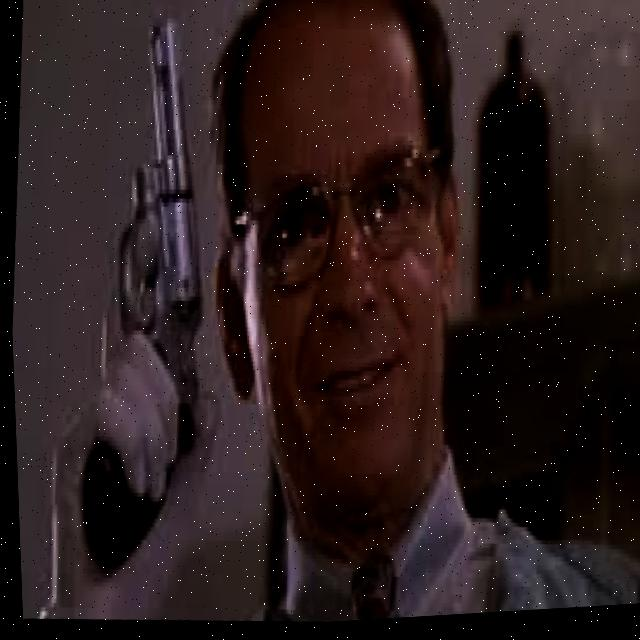pistol: (91, 3, 227, 463)
